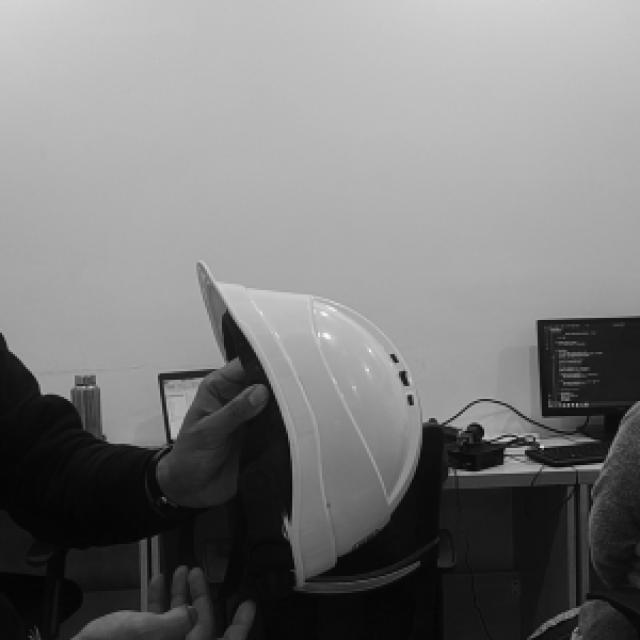safety_helmet: (198, 257, 424, 588)
